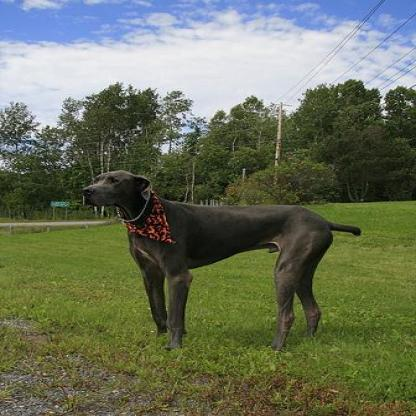Great_Dane: (76, 166, 364, 357)
